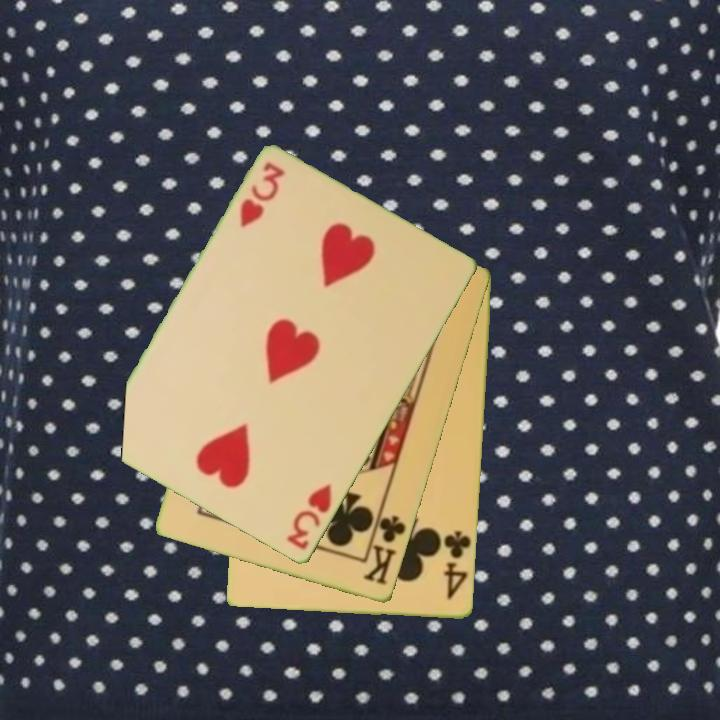3h: (283, 480, 335, 554), (236, 159, 288, 232)
4c: (440, 528, 474, 604)
Kc: (360, 506, 409, 589)
